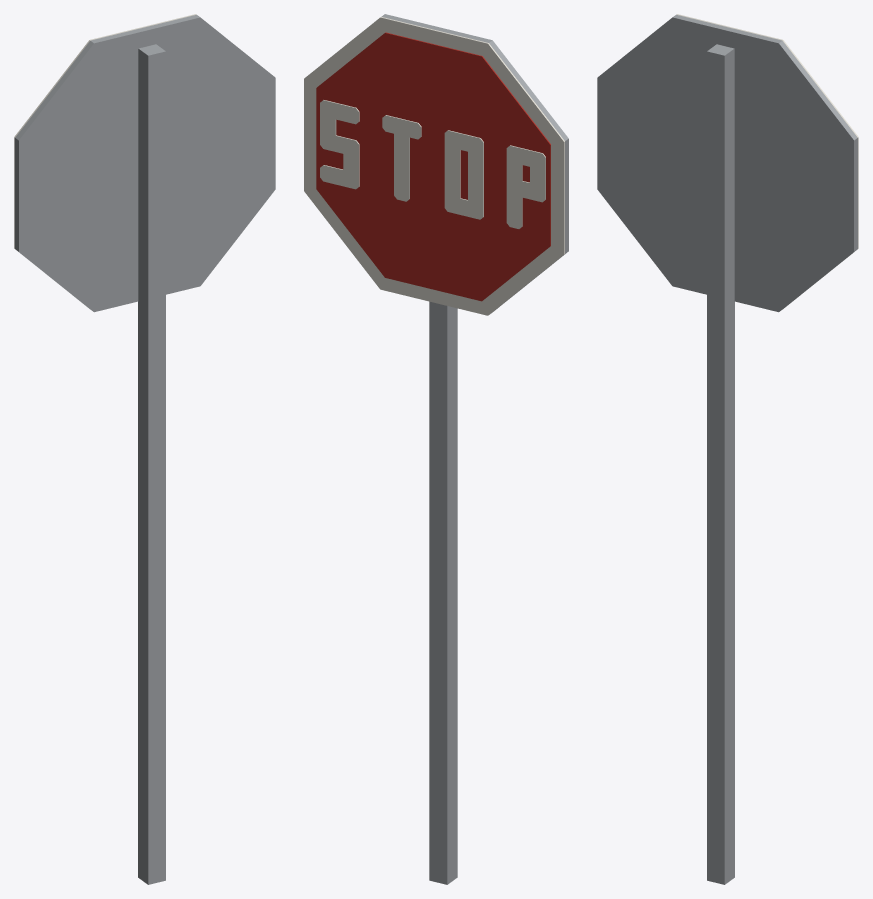
The model's file is sign_stop.glb.
3 renders of one model, left to right at view 1: azimuth 30°, elevation 25°; view 2: azimuth 150°, elevation 25°; view 3: azimuth 330°, elevation 25°, orthographic.
Parts seen in each view (by area): view 1: sign_stop; view 2: sign_stop; view 3: sign_stop.
Part boxes in pixels (bbox=[...]): sign_stop: bbox=[14, 14, 275, 884]; sign_stop: bbox=[304, 14, 568, 884]; sign_stop: bbox=[597, 14, 858, 884].
Size of the model in its own units: 3.18 by 9.99 by 0.337.
